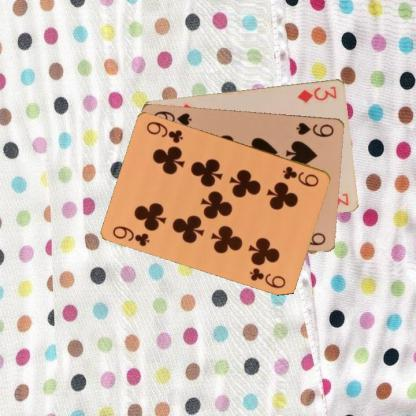3d: (295, 84, 338, 104)
9c: (110, 223, 151, 248), (280, 164, 321, 188)
9s: (294, 120, 335, 138)
